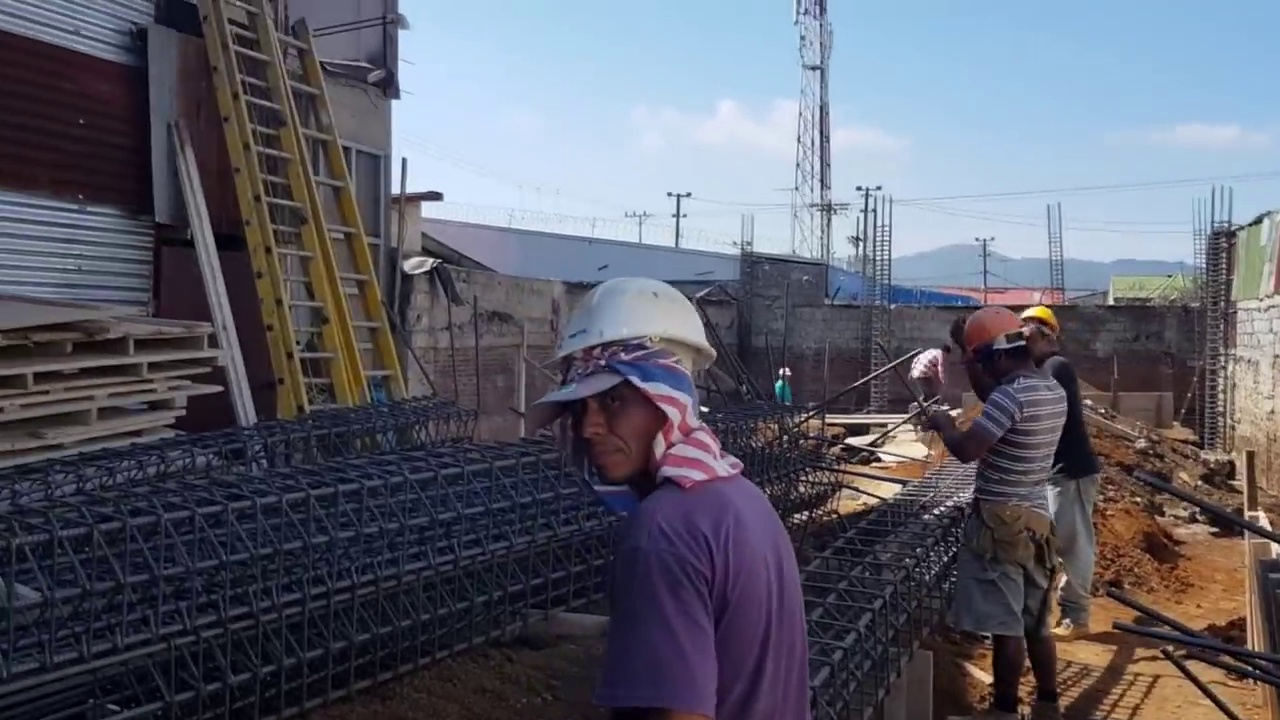helmet: (535, 275, 720, 417), (963, 308, 1026, 361), (1021, 305, 1059, 333)
helmet-off: (940, 344, 953, 357)
helmet-on: (536, 274, 721, 500), (961, 308, 1041, 381), (1019, 302, 1067, 366), (777, 367, 794, 384)
person: (533, 275, 807, 718), (917, 307, 1072, 698), (1019, 303, 1108, 648), (909, 344, 953, 404), (774, 367, 794, 408), (778, 366, 794, 377)
